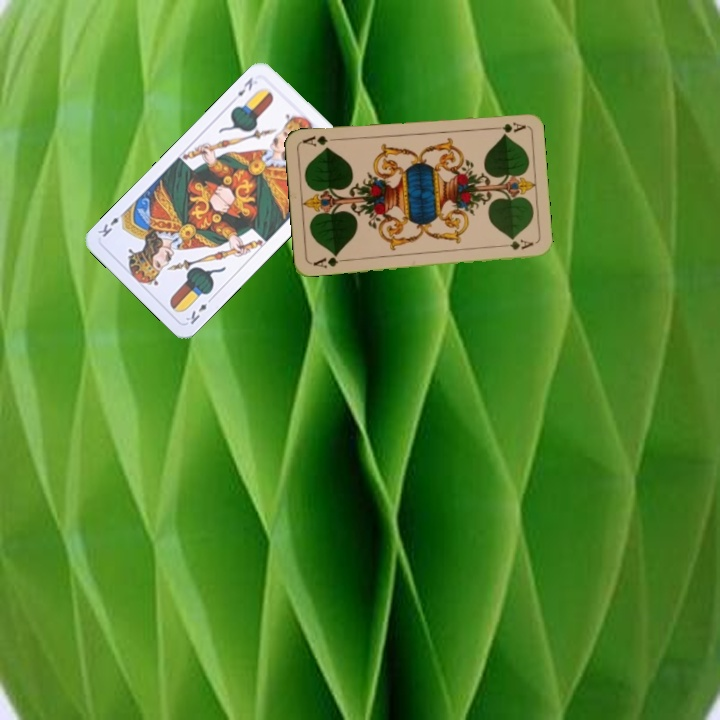EK: (182, 293, 216, 327), (233, 73, 256, 99)
GA: (309, 250, 349, 271), (487, 118, 528, 135)
